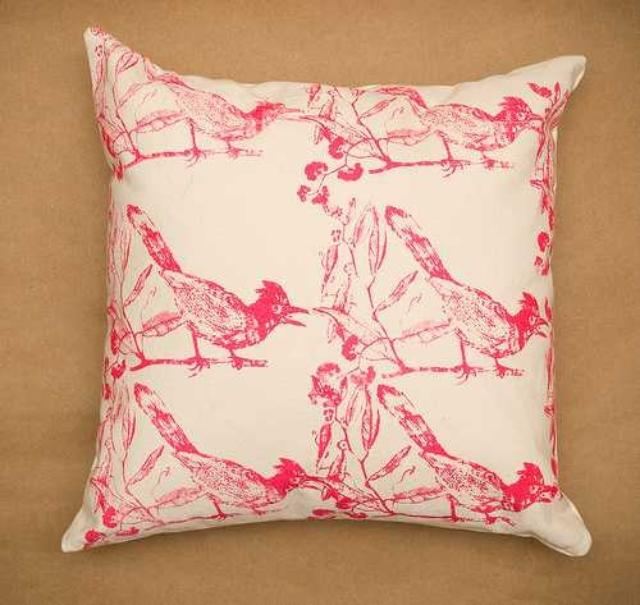pillow: (60, 23, 592, 559)
